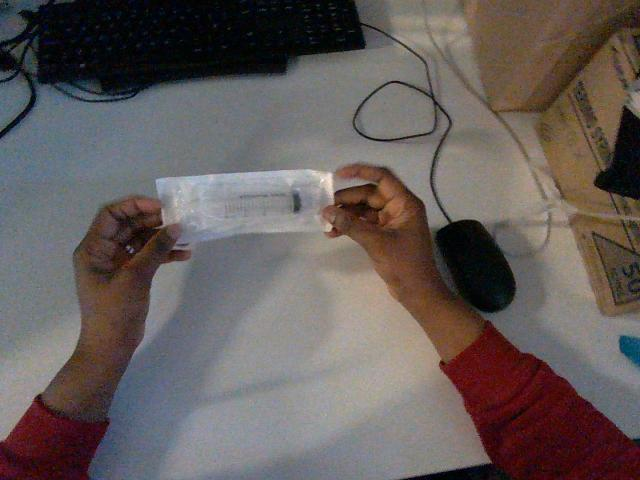syringe: (156, 170, 333, 242)
